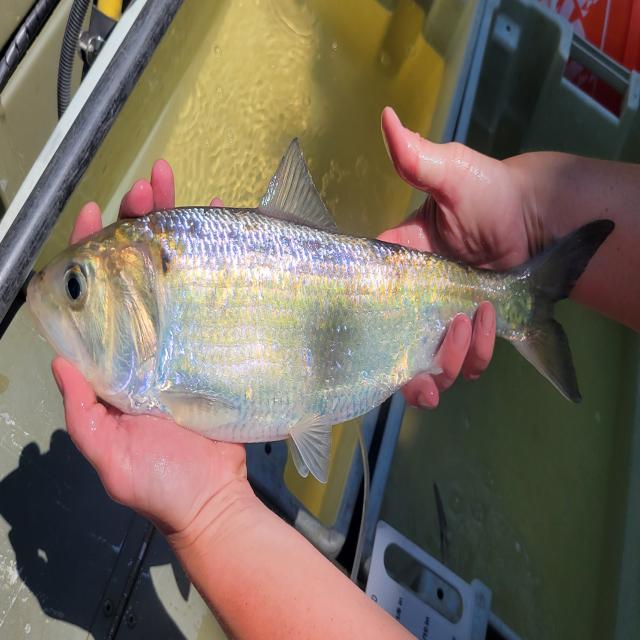Shad - American: (26, 140, 612, 482)
